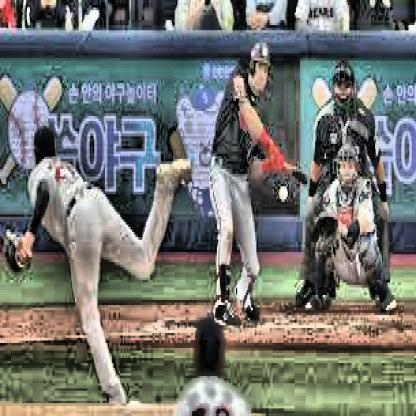baseball: (278, 184, 290, 204)
